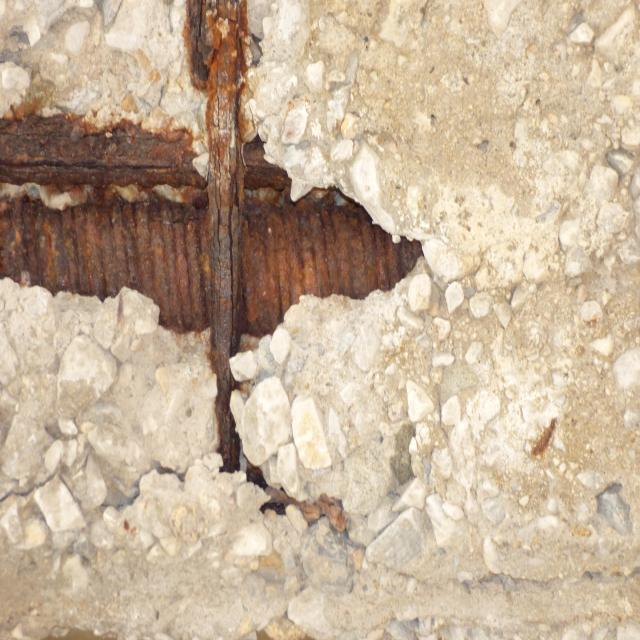Rebar: (0, 0, 486, 596), (532, 416, 558, 456)
horizontal crack: (370, 559, 640, 590)
